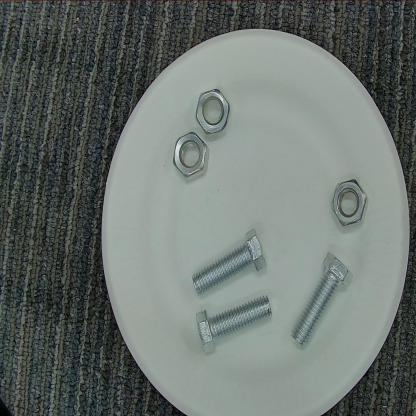FOD: (290, 247, 354, 351), (190, 227, 268, 296), (193, 293, 274, 356), (327, 176, 372, 232), (193, 86, 233, 138), (172, 130, 210, 184)
